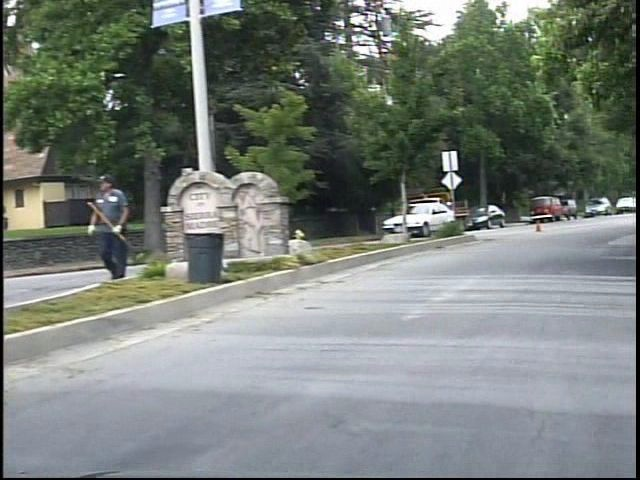person: (89, 168, 143, 286)
